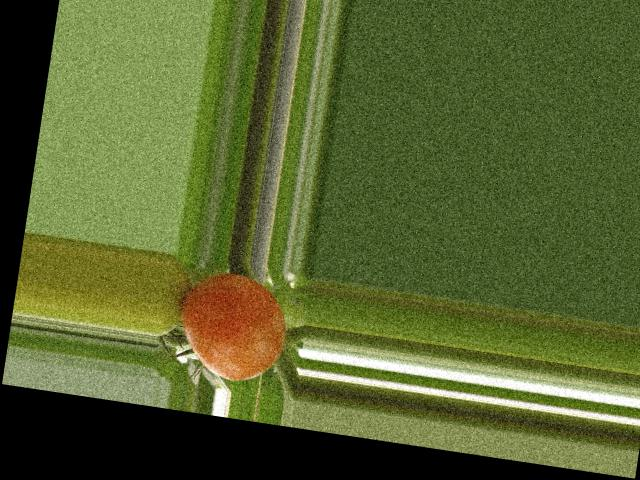tomato: (172, 266, 293, 387)
